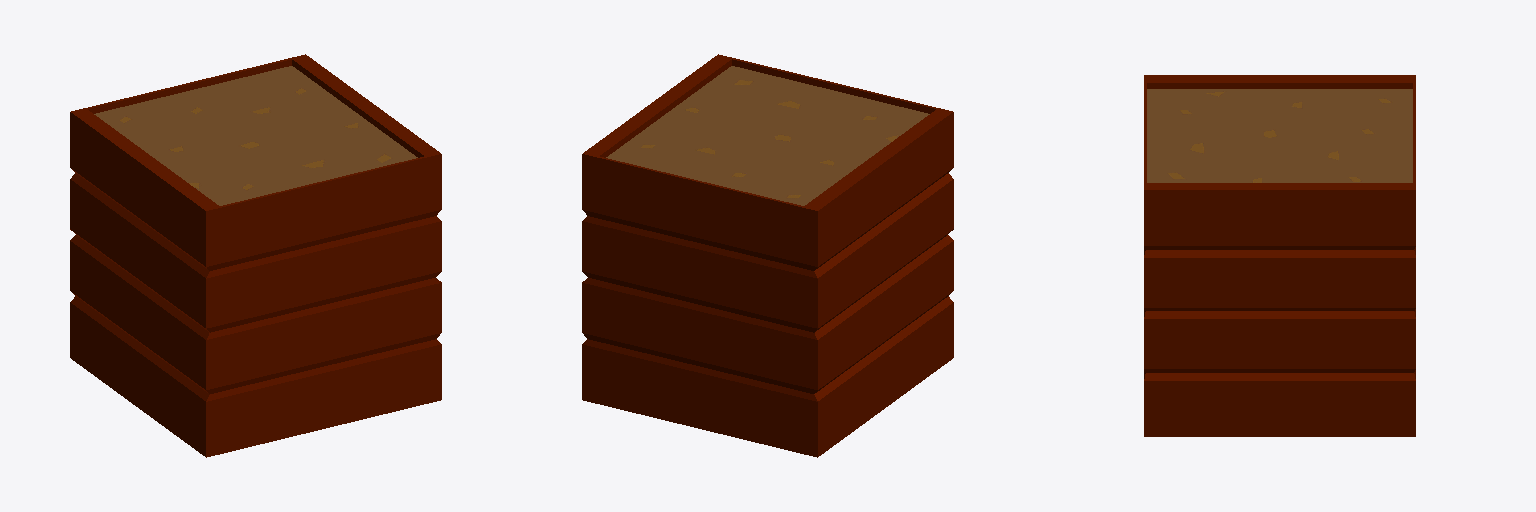
The picture shows the model from 3 angles: view 1: azimuth 30°, elevation 25°; view 2: azimuth 150°, elevation 25°; view 3: azimuth 270°, elevation 25°; orthographic projection.
Parts seen in each view (by area): view 1: Cube (12); view 2: Cube (12); view 3: Cube (12).
Part boxes in pixels (left/top/right/bottom): Cube (12): left=70, top=54, right=441, bottom=457; Cube (12): left=582, top=54, right=953, bottom=457; Cube (12): left=1144, top=75, right=1415, bottom=436.
Size of the model in its own units: 1 by 1 by 1.
Materials: 2 (1 with a texture image).